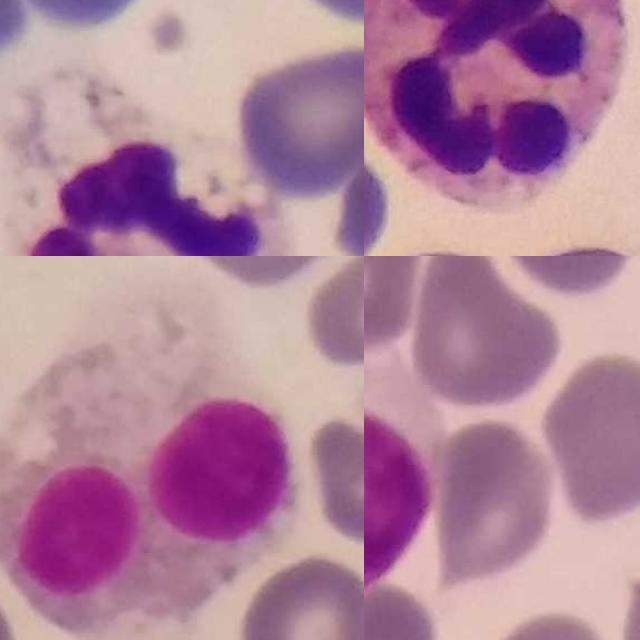Eosinophil: (0, 309, 305, 631)
Lymphocyte: (364, 321, 448, 604)
Neutrophil: (364, 0, 625, 213), (0, 86, 289, 256)
